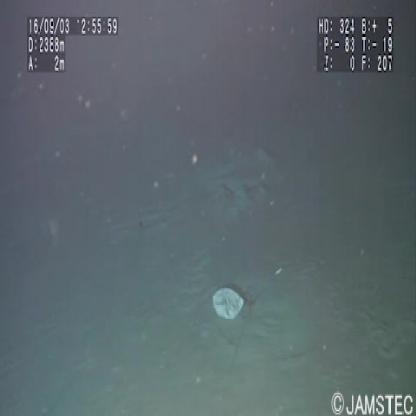Rác: (210, 282, 249, 325)
